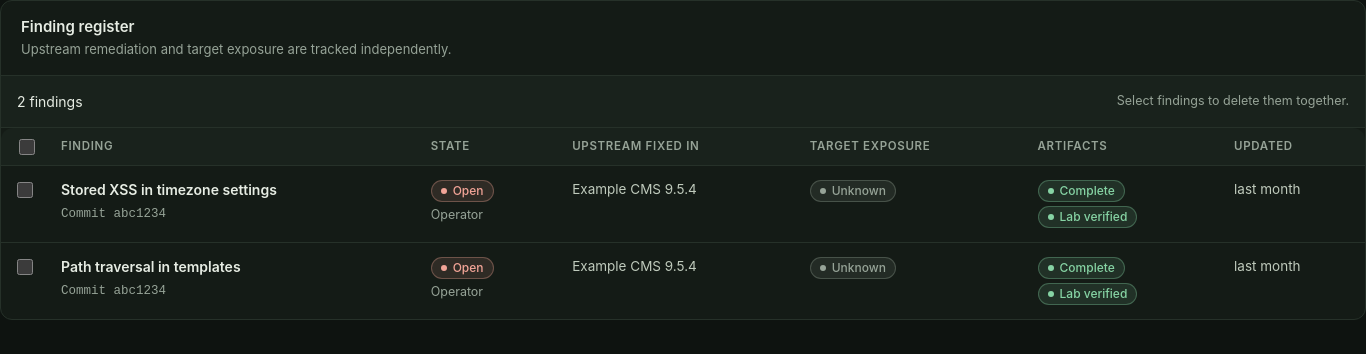
deletes the selected findings together after confirmation
Click the checkbox named "Select all findings on this page".
click(27, 147)  # box [19, 139, 35, 155]
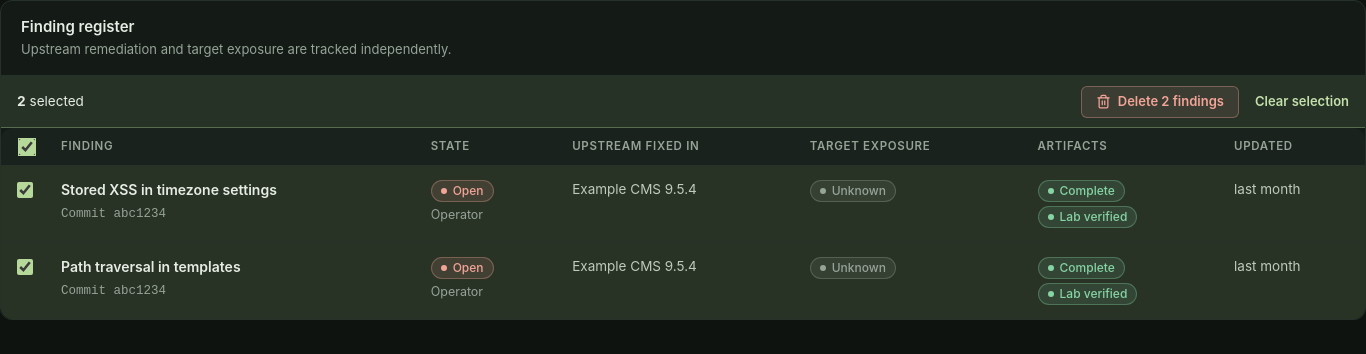
expect the message reads "2 selected": met, box [17, 91, 84, 112]
Click the checkbox named "Select Path traversal in templates".
click(25, 267)  # box [17, 259, 33, 275]
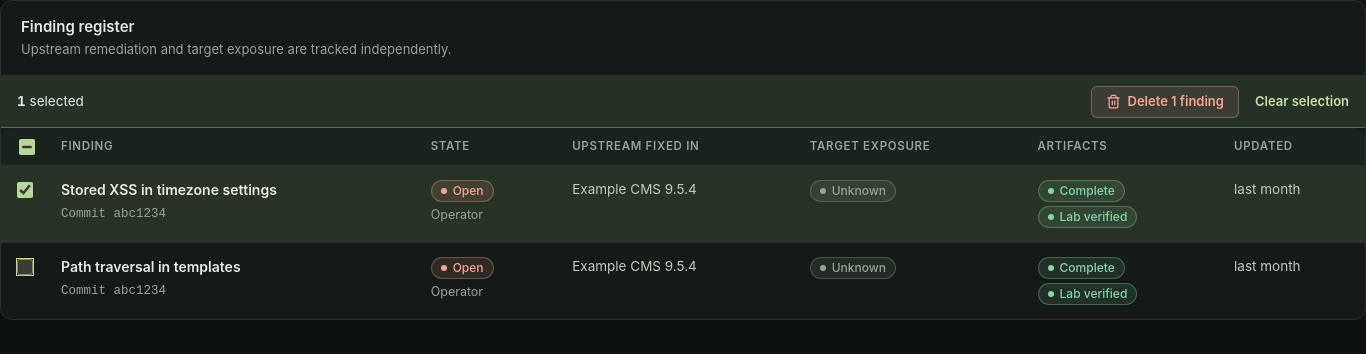
expect the message reads "1 selected": met, box [17, 91, 84, 112]
Click the checkbox named "Select Path traversal in templates".
click(25, 267)  # box [17, 259, 33, 275]
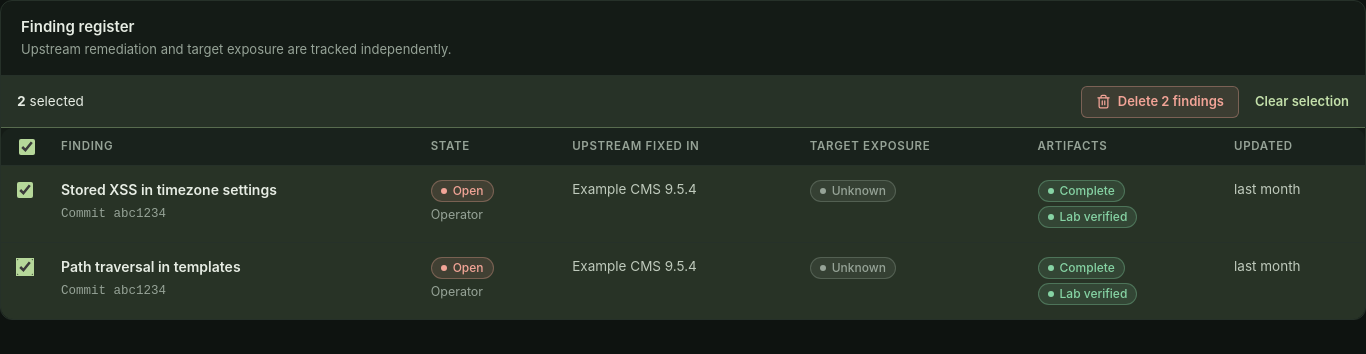
Click the button "Delete 2 findings".
click(1160, 102)  # box [1081, 86, 1239, 118]
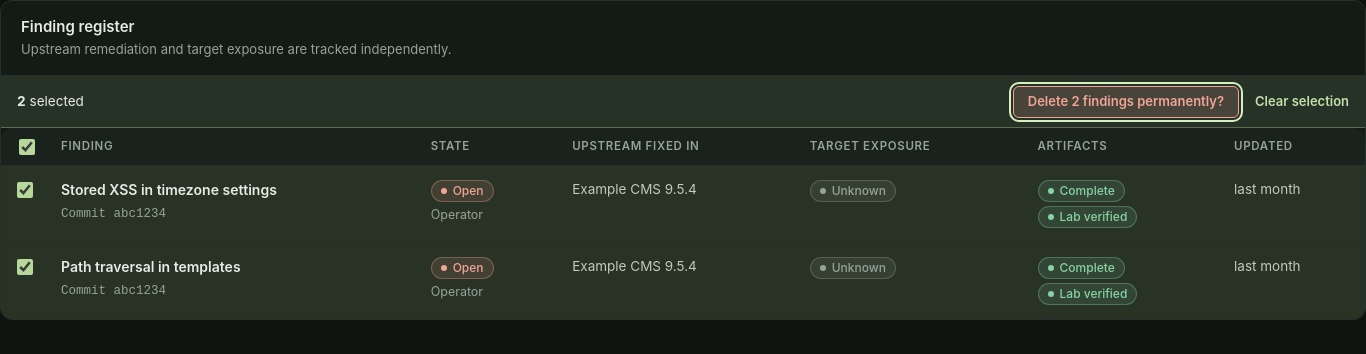
Click the button "Delete 2 findings permanently?".
click(1126, 102)  # box [1013, 86, 1239, 118]
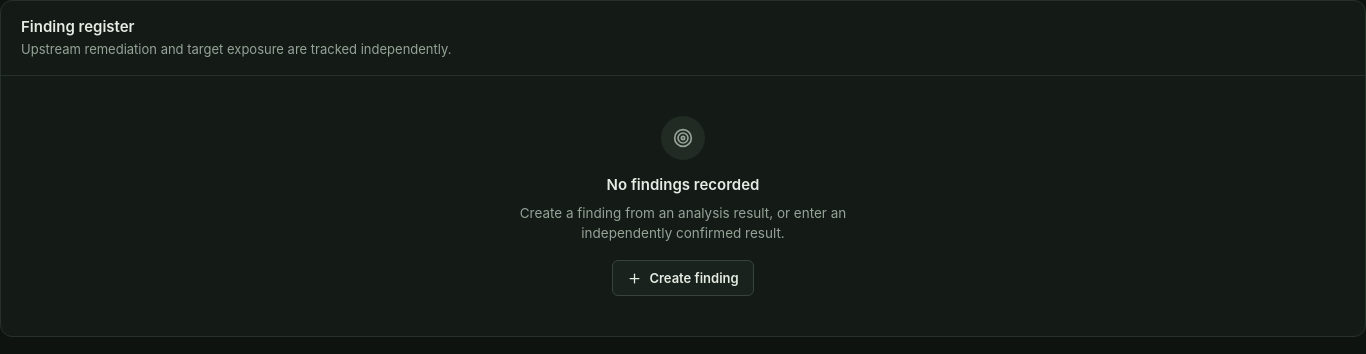
expect the heading "No findings recorded" is shown: met, box [607, 174, 759, 196]
